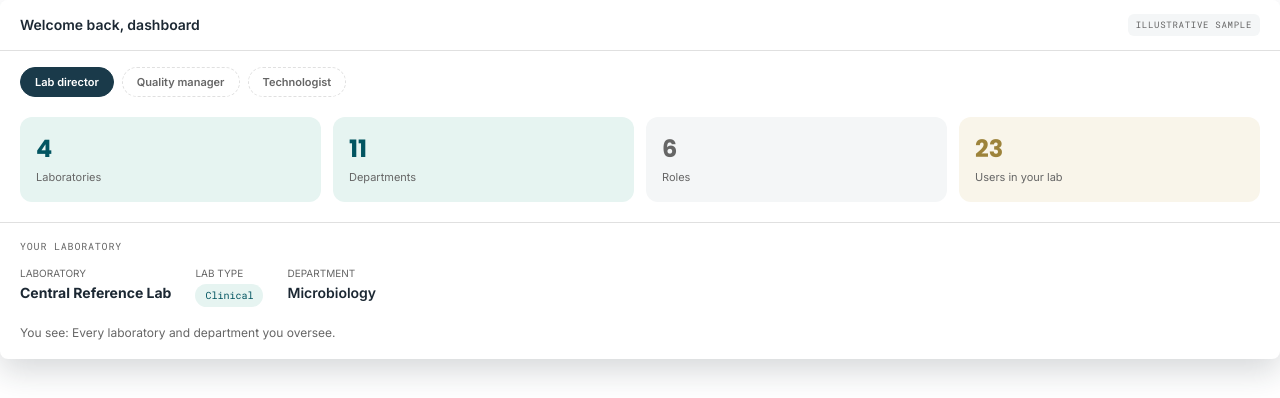
dashboard role switcher › shows different numbers for each role
expect the text "Laboratories" is shown: met, box [36,170,101,184]
Click the tab "Technologist": point(297, 82) [248,66,346,97]
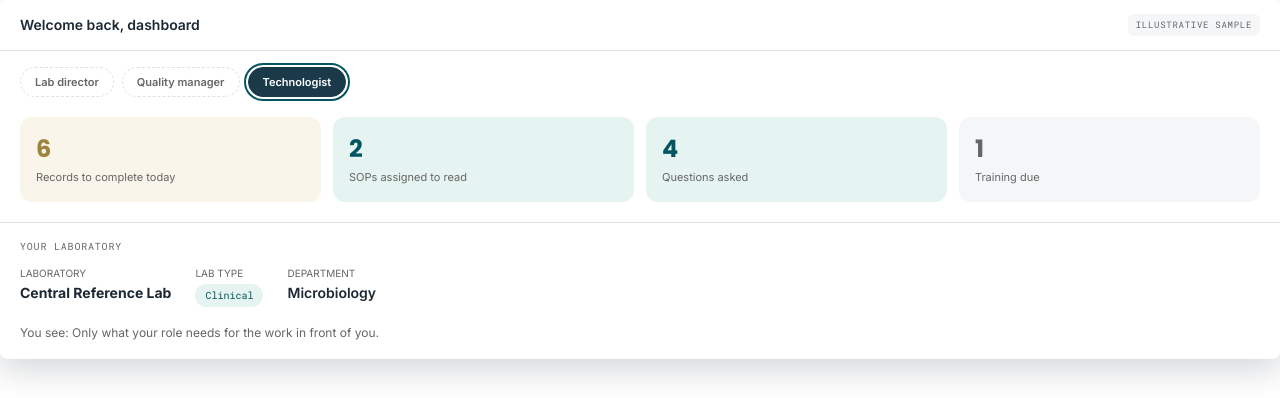
expect the text "Records to complete today" is shown: met, box [36,170,175,184]
expect the text "Laboratories" is gone: met
